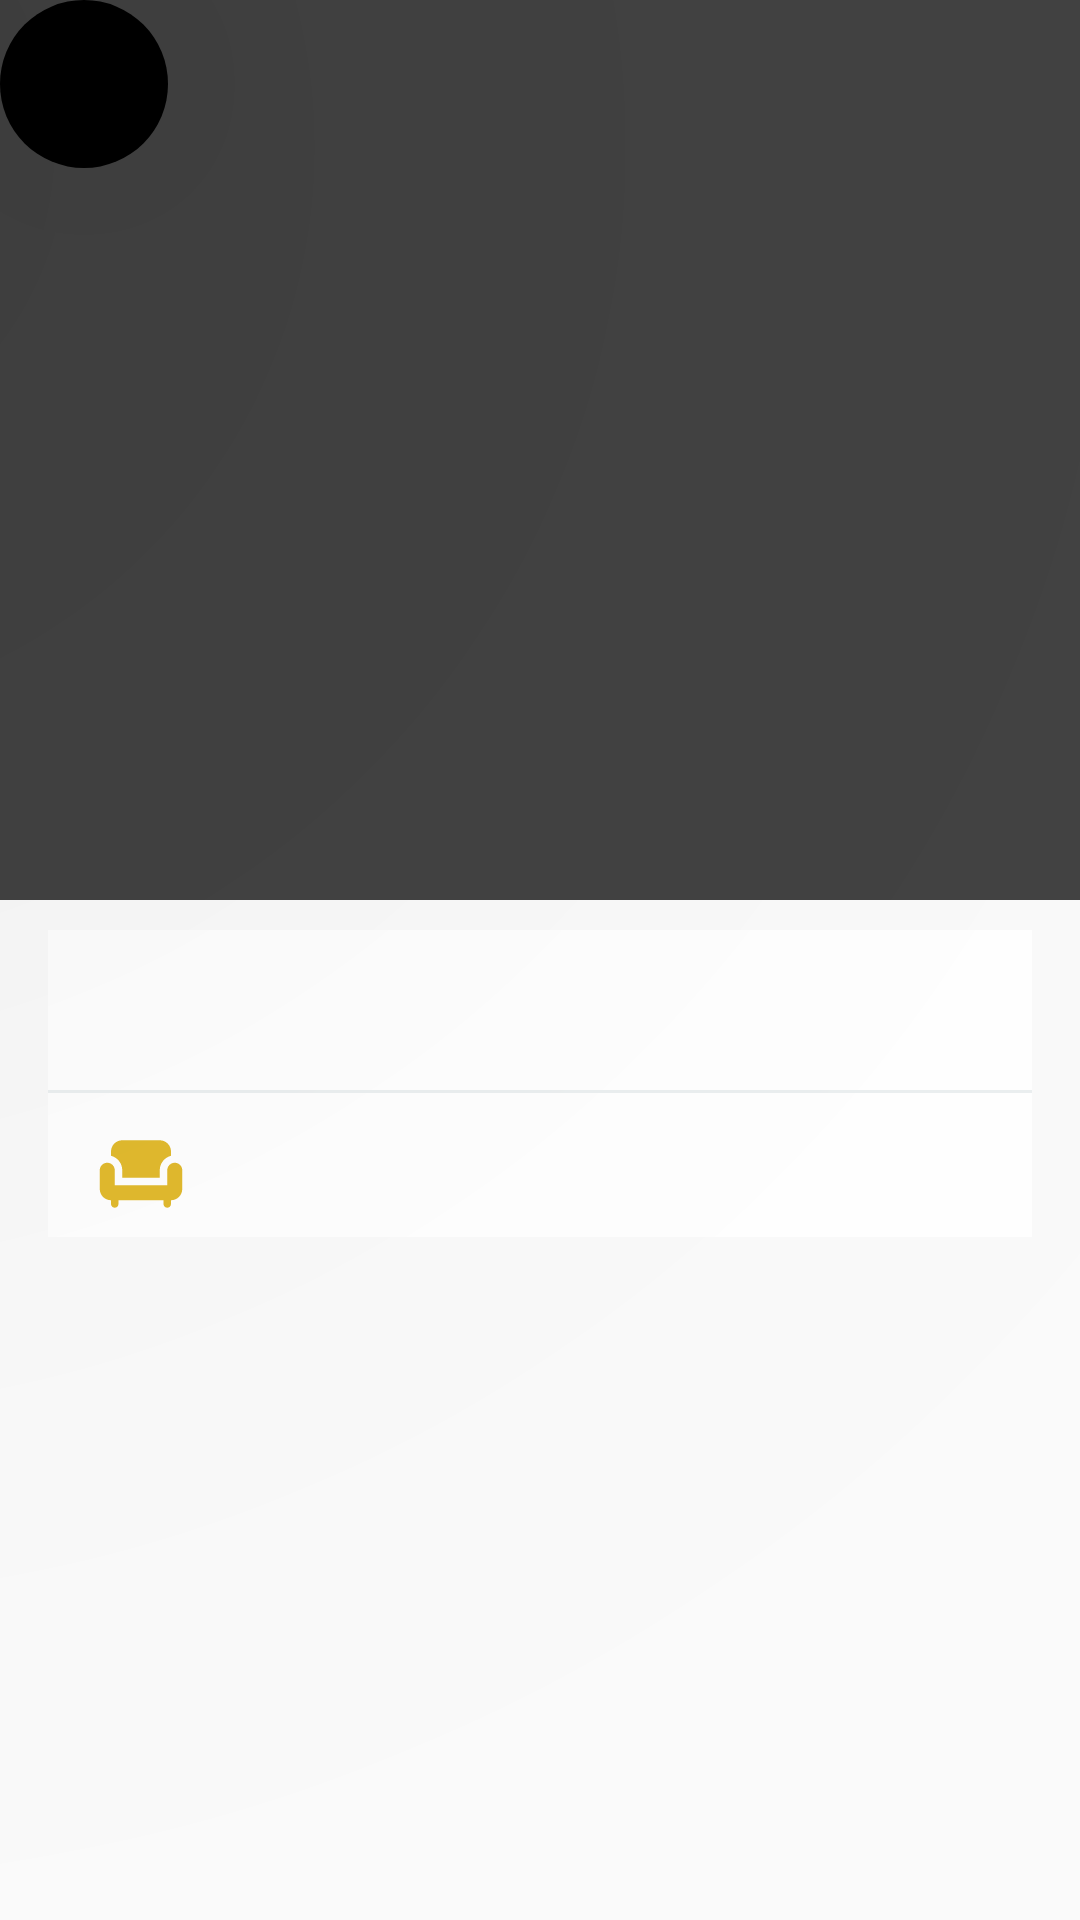

Named icons in this screenshot (1080 × 1920) and their centers, (x=x, y=y):
Seats: (x=141, y=1174)
